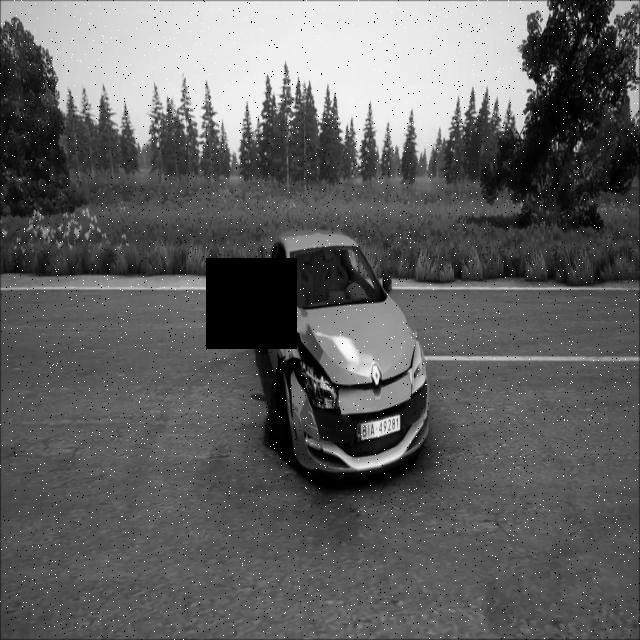vehicle: (188, 133, 486, 514)
